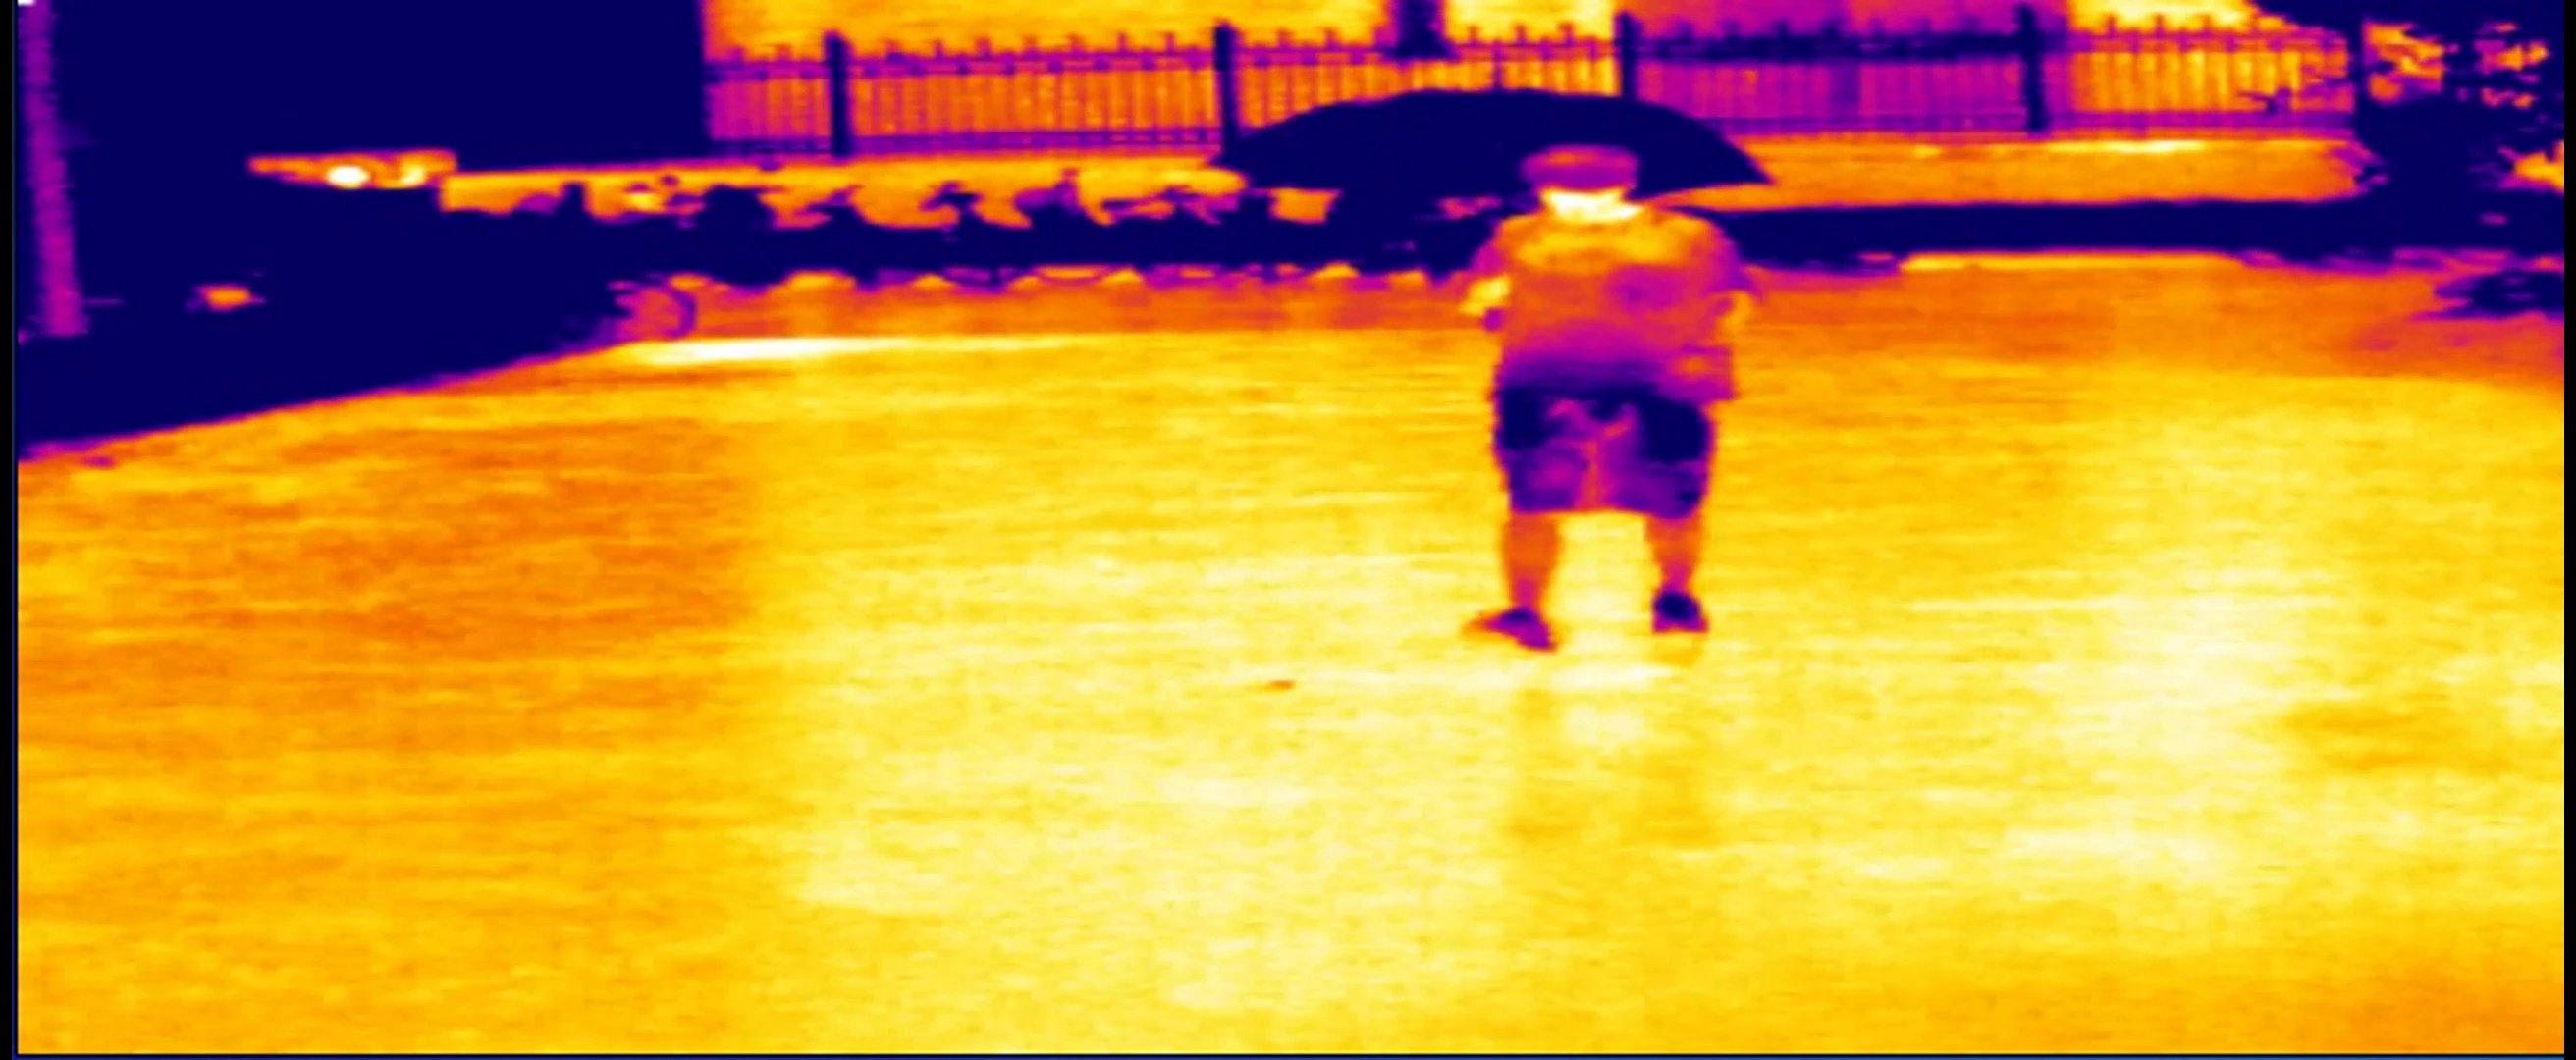person: (1479, 148, 1749, 650)
